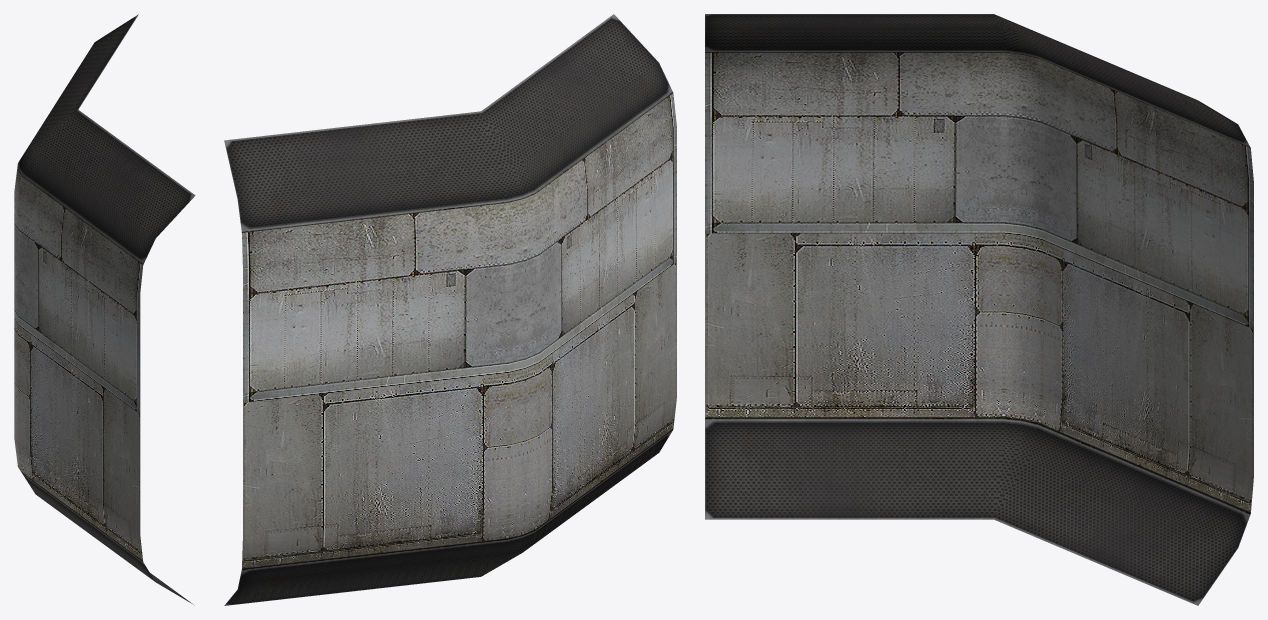
The model's file is Wall_B_Mid4mts_02.fbx.
The picture shows the model from 3 angles, left to right: view 1: azimuth 30°, elevation 25°; view 2: azimuth 150°, elevation 25°; view 3: azimuth 270°, elevation 25°; orthographic projection. The views are drawn at different scales.
Parts seen in each view (by area): view 1: Wall_B_Mid4mts_02; view 2: Wall_B_Mid4mts_02; view 3: Wall_B_Mid4mts_02.
Part boxes in pixels (x1,y1,x2,y2): Wall_B_Mid4mts_02: [14, 14, 195, 605]; Wall_B_Mid4mts_02: [224, 14, 676, 605]; Wall_B_Mid4mts_02: [705, 14, 1253, 605].
Bounding box in the file's own units: 203 × 400 × 394.
1 material, 1 textured.
